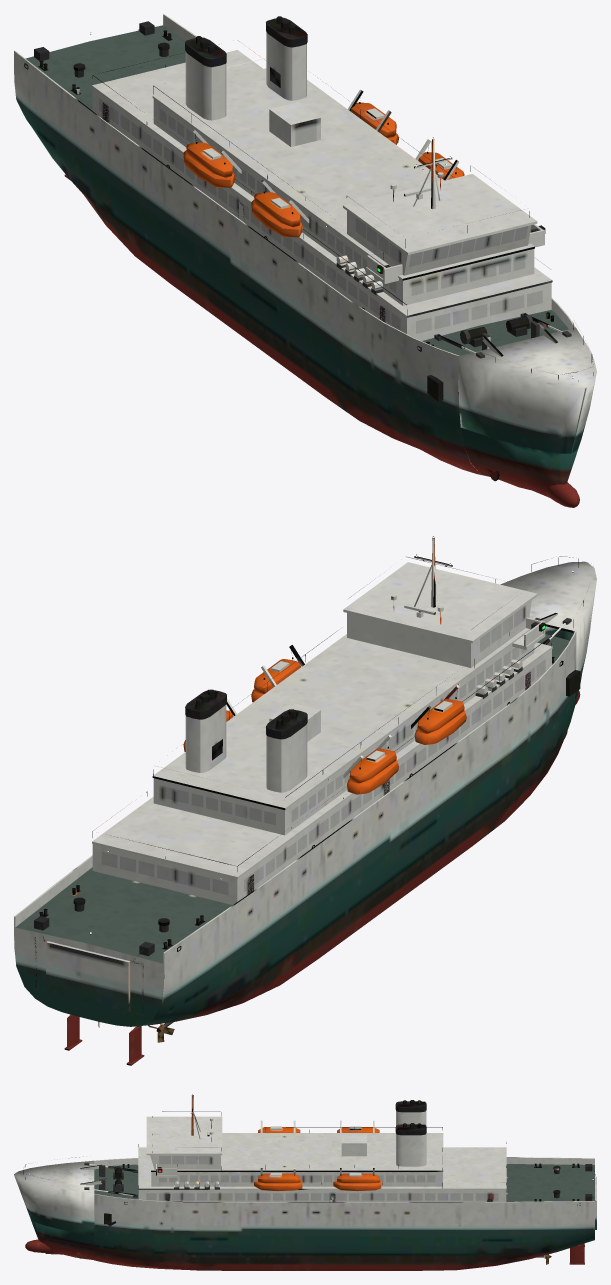
Rendered from tevy-ro-ro-lod2.glb.
3 views of the same model, one above another, from view 1: azimuth 30°, elevation 25°; view 2: azimuth 150°, elevation 25°; view 3: azimuth 270°, elevation 25° (orthographic). The views are drawn at different scales.
Visible parts, largest first — view 1: body, bow_visor_mesh, fittings; view 2: body, fittings, bow_visor_mesh, stern_ramp_mesh; view 3: body, bow_visor_mesh, fittings, rudder_L_mesh.
Boxes of the visible parts, left/top/right/bottom form: body: left=14, top=14, right=579, bottom=507; bow_visor_mesh: left=458, top=320, right=596, bottom=453; fittings: left=90, top=32, right=542, bottom=333; body: left=14, top=536, right=580, bottom=1027; fittings: left=90, top=536, right=545, bottom=933; bow_visor_mesh: left=495, top=556, right=596, bottom=701; stern_ramp_mesh: left=46, top=941, right=130, bottom=1011; body: left=25, top=1094, right=595, bottom=1270; bow_visor_mesh: left=14, top=1156, right=102, bottom=1235; fittings: left=146, top=1094, right=593, bottom=1200; rudder_L_mesh: left=569, top=1245, right=584, bottom=1264.
Bounding box in the file's own units: 20.1 × 28.21 × 92.01.
Materials: 6 (1 with a texture image).
